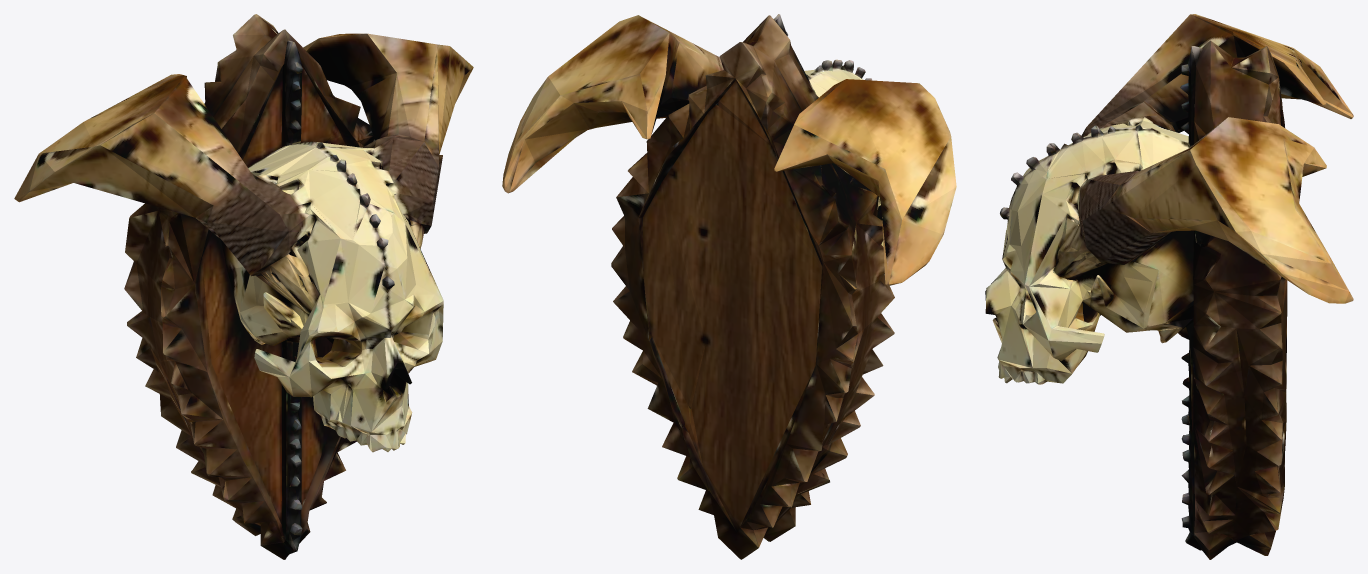
Rendered from ogre_bone_pile_01.glb.
The picture shows the model from 3 angles, left to right: view 1: azimuth 30°, elevation 25°; view 2: azimuth 150°, elevation 25°; view 3: azimuth 270°, elevation 25°; orthographic projection. The views are drawn at different scales.
Visible parts, largest first — view 1: geometry_0; view 2: geometry_0; view 3: geometry_0.
Part boxes in pixels (x1,y1,x2,y2): geometry_0: (14, 14, 473, 559); geometry_0: (502, 14, 956, 559); geometry_0: (985, 14, 1353, 559).
Size of the model in its own units: 0.8493 by 1 by 0.6435.
Materials: 1 (1 with a texture image).
